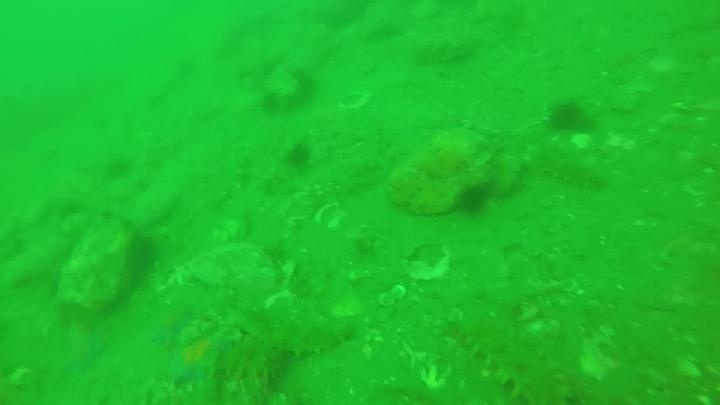echinus: (114, 233, 154, 283), (546, 100, 589, 136), (284, 68, 319, 111), (455, 182, 492, 216), (283, 141, 314, 171), (258, 90, 284, 117)
holothurian: (446, 316, 567, 404), (258, 317, 358, 361), (217, 327, 293, 380), (531, 145, 609, 193), (410, 33, 479, 68)
starfish: (166, 331, 231, 387), (60, 328, 107, 377), (146, 304, 196, 348)
